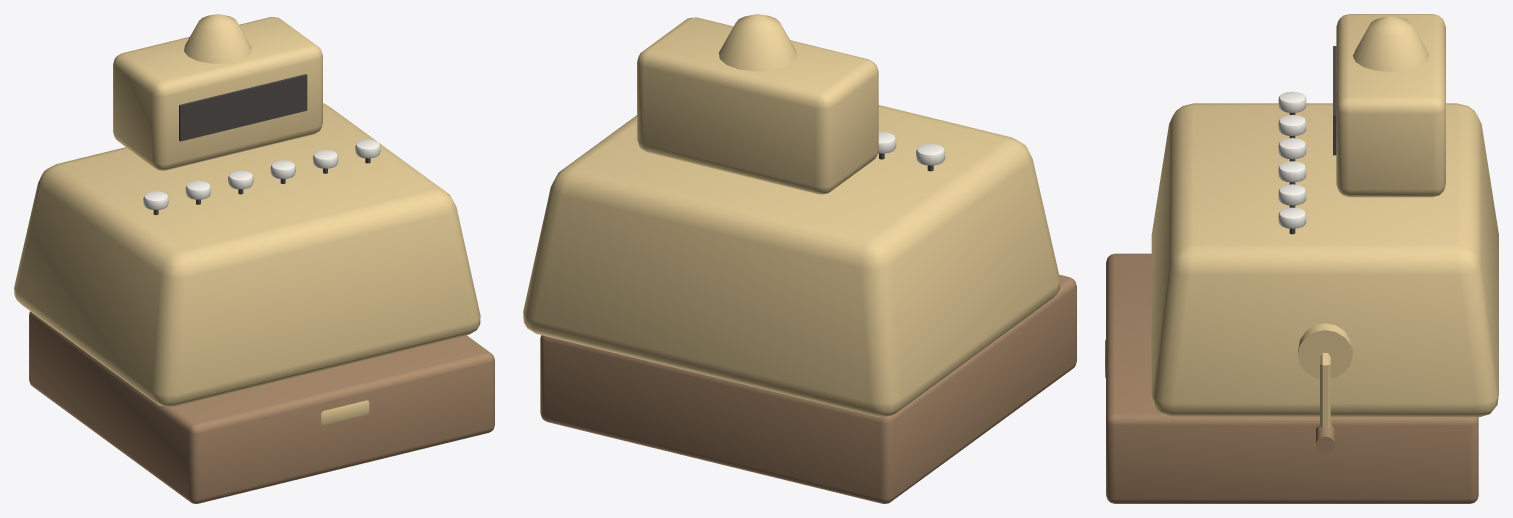
Rendered from cash_register.glb.
3 views of the same model, side by side, from view 1: azimuth 30°, elevation 25°; view 2: azimuth 150°, elevation 25°; view 3: azimuth 270°, elevation 25° (orthographic). The views are drawn at different scales.
Visible parts, largest first — view 1: cash_register; view 2: cash_register; view 3: cash_register.
Boxes of the visible parts, x1,y1,x2,y2 form: cash_register: (14,14,494,503); cash_register: (523,14,1076,503); cash_register: (1105,14,1498,503).
Size of the model in its own units: 0.4324 by 0.41 by 0.3594.
